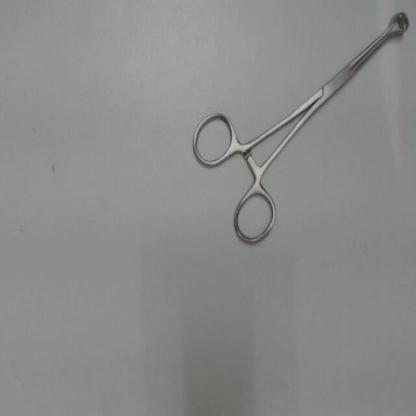Babcock Tissue Forceps: (190, 6, 412, 252)
